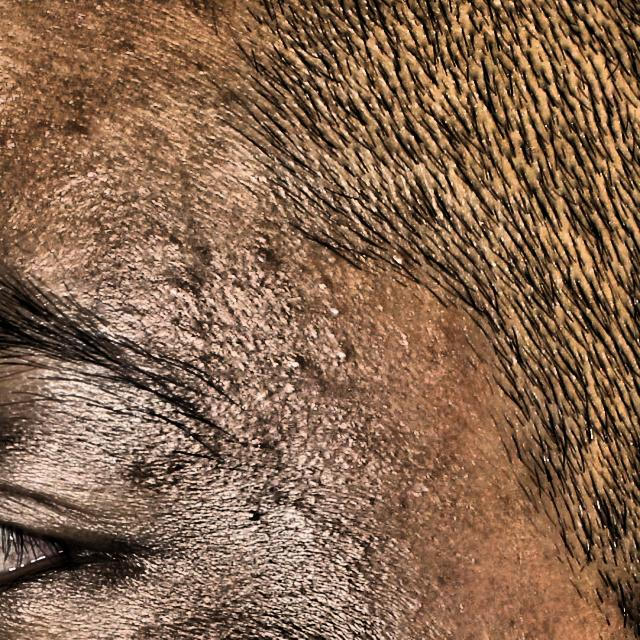whiteheads: (313, 276, 336, 297), (324, 301, 344, 319), (398, 330, 411, 350), (254, 388, 270, 404), (337, 348, 352, 363), (195, 65, 211, 79), (256, 234, 271, 246), (245, 341, 258, 354), (310, 329, 322, 343), (289, 359, 304, 370), (197, 358, 209, 371), (284, 382, 296, 394), (328, 330, 340, 342), (375, 302, 388, 313), (325, 256, 339, 266), (282, 303, 294, 314), (233, 284, 245, 294), (278, 337, 286, 345), (272, 360, 279, 369)
